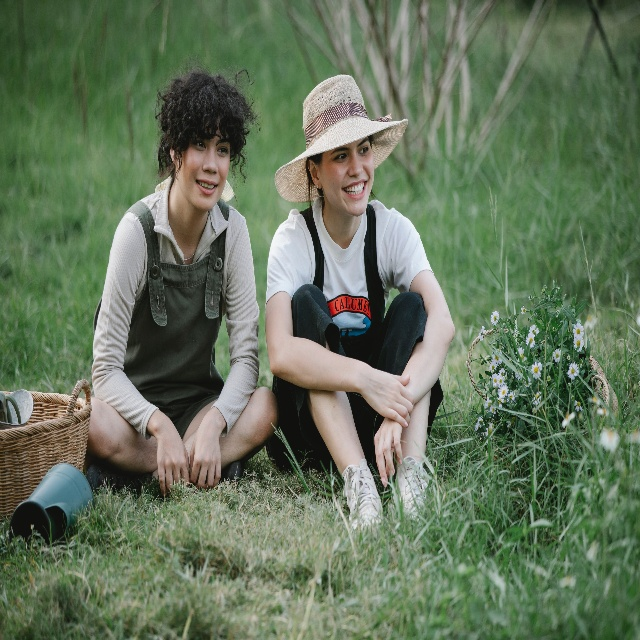Sin_guantes: (359, 363, 415, 427), (156, 421, 189, 499), (189, 416, 221, 491), (374, 417, 403, 489)
